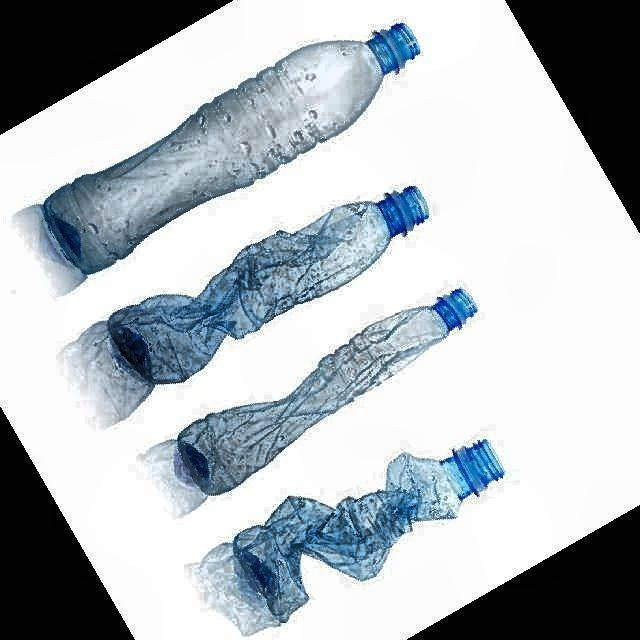plastic: (42, 24, 420, 274), (104, 186, 429, 396), (179, 289, 476, 494), (232, 441, 504, 622)
